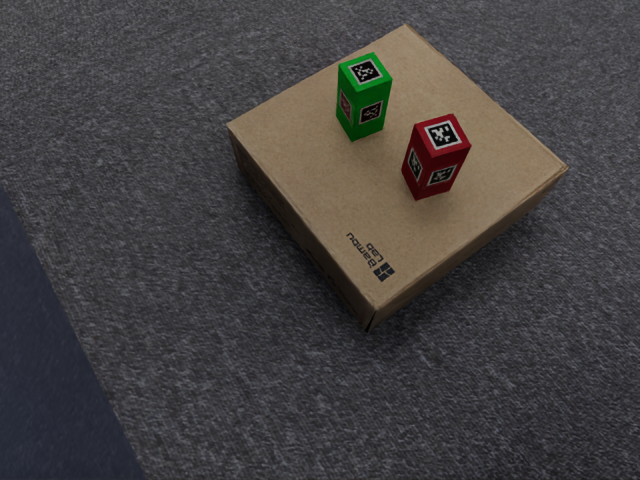puck_green_box: (336, 52, 392, 141)
puck_red_box: (401, 113, 471, 200)
